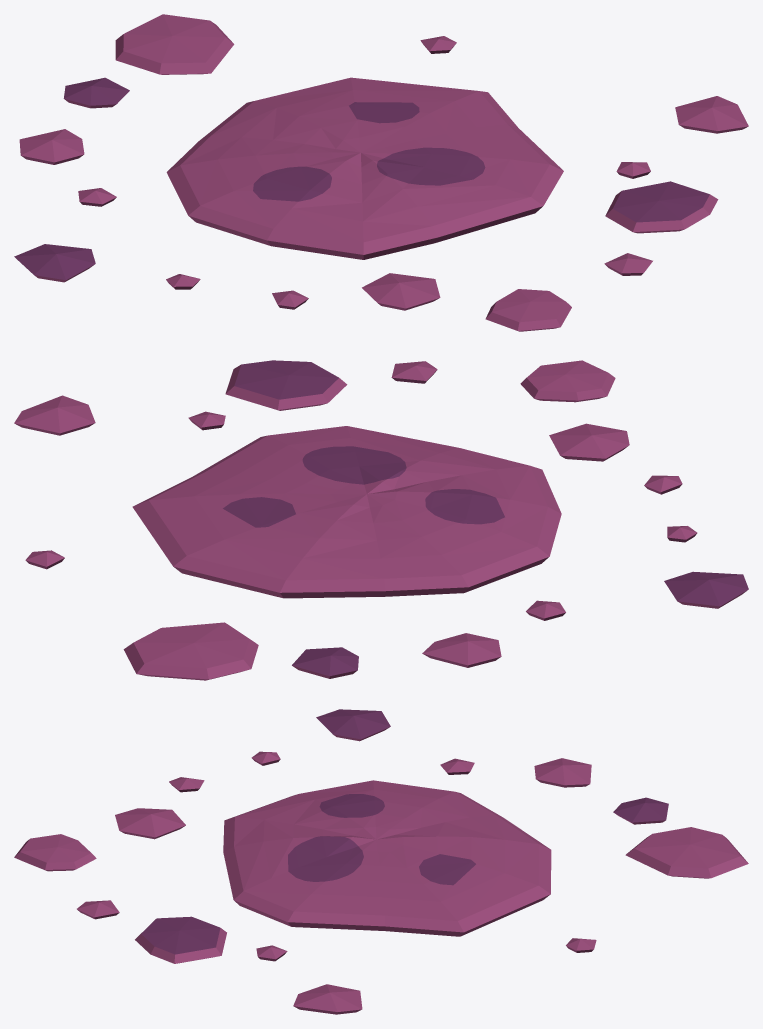
The model's file is coralline-encrusting-patch-9c403a.glb.
3 renders of one model, top to bottom at view 1: azimuth 30°, elevation 25°; view 2: azimuth 150°, elevation 25°; view 3: azimuth 270°, elevation 25°, orthographic. The views are drawn at different scales.
Visible parts, largest first — view 1: crust; view 2: crust; view 3: crust.
Part boxes in pixels (x1,y1,x2,y2): crust: (14,14,748,331); crust: (14,360,748,680); crust: (14,709,748,1014).
Bounding box in the file's own units: 0.2828 × 0.0117 × 0.2902.
